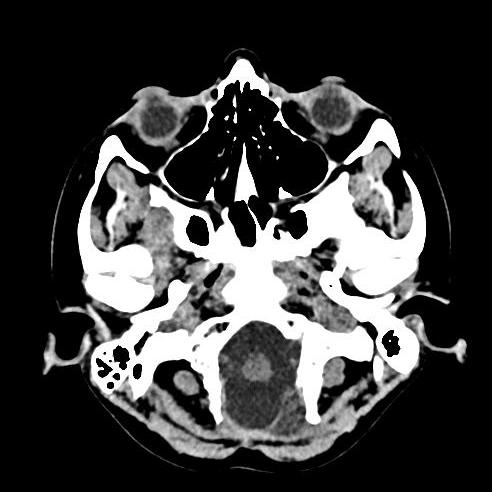Normal_Brain: (51, 45, 450, 469)
